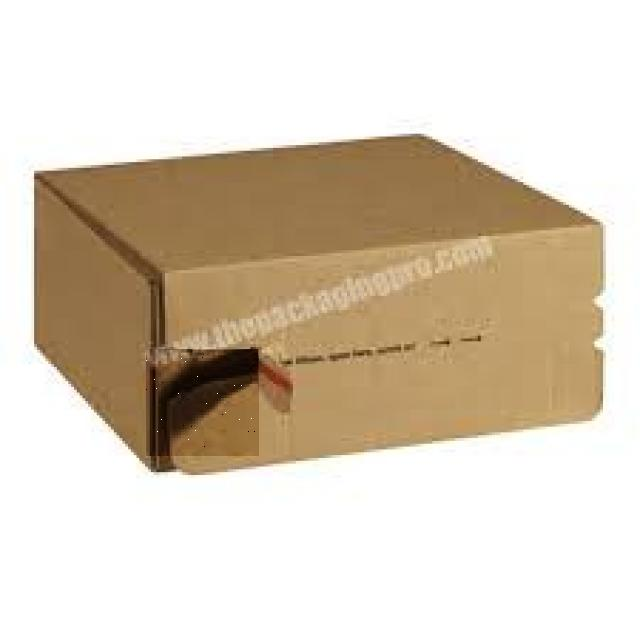tear: (146, 350, 259, 454)
